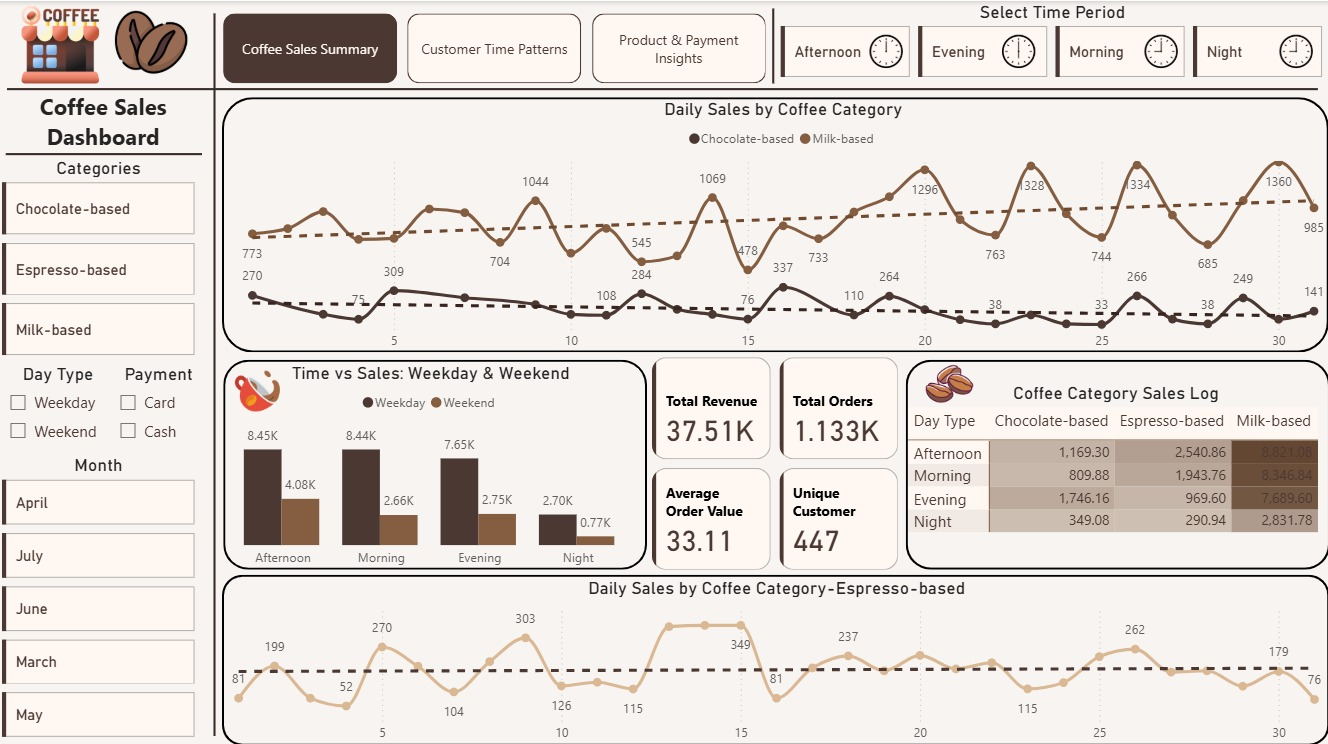

What the dashboard file says about the page in this screenshot:
{"tool":"powerbi","page":{"name":"Coffee Sales Summary","canvas":[1280,720],"ordinal":0},"visuals":[{"type":"lineChart","title":"Daily Sales by Coffee Category","fields":{"Category":["Cleaned_Dataset.date.Variation.Date Hierarchy.Day"],"Y":["Sum(Cleaned_Dataset.money)"],"Series":["Cleaned_Dataset.coffee_category"]},"box":[230.2,93.3,1049.7,251.1],"z":0},{"type":"clusteredColumnChart","title":"Time vs Sales: Weekday & Weekend","fields":{"Category":["Cleaned_Dataset.time_of_day"],"Y":["Sum(Cleaned_Dataset.money)"],"Series":["Cleaned_Dataset.is_weekend"]},"box":[194.9,347.2,444.6,205.8],"z":1000},{"type":"pivotTable","title":"Coffee Category Sales Log","fields":{"Rows":["Cleaned_Dataset.time_of_day"],"Values":["Sum(Cleaned_Dataset.money)"],"Columns":["Cleaned_Dataset.coffee_category"]},"box":[870.9,366.3,409.1,168.2],"z":2000},{"type":"advancedSlicerVisual","title":"Categories","fields":{"Values":["Cleaned_Dataset.coffee_category"]},"box":[0,149.7,195.3,198.1],"z":3000},{"type":"advancedSlicerVisual","title":"Month","fields":{"Values":["Cleaned_Dataset.Month Name"]},"box":[0,436.2,195.3,279.4],"z":4000},{"type":"shape","title":"Daily Sales by Coffee Category","box":[216.7,92.7,1063.3,245.2],"z":5000},{"type":"lineChart","title":"Daily Sales by Coffee Category-Espresso-based","fields":{"Category":["Cleaned_Dataset.date.Variation.Date Hierarchy.Day"],"Y":["Sum(Cleaned_Dataset.money)"],"Series":["Cleaned_Dataset.coffee_category"]},"box":[216.8,553,1063.5,167.4],"z":6000},{"type":"shape","box":[216.6,551.6,1063.8,164.3],"z":7000},{"type":"shape","box":[217.3,344.6,407.1,201.7],"z":8000},{"type":"shape","box":[195.7,12,26.4,694],"z":9000},{"type":"shape","box":[9.6,70.8,1259.6,27.6],"z":10000},{"type":"cardVisual","fields":{"Data":["Sum(Cleaned_Dataset.money)","CountNonNull(Cleaned_Dataset.coffee_name)","Cleaned_Dataset.Average Order Value","Count(Cleaned_Dataset.card)"]},"box":[624.3,337.8,246.6,215.2],"z":11000},{"type":"image","box":[106.9,0,82.9,79.2],"z":12000},{"type":"shape","box":[8.4,133.3,188.5,27.6],"z":13000},{"type":"textbox","box":[7.2,81.7,189.7,76.8],"z":14000},{"type":"slicer","title":"Day Type","fields":{"Values":["Cleaned_Dataset.is_weekend"]},"box":[0,348.2,117.7,87.7],"z":15000},{"type":"slicer","title":"Payment","fields":{"Values":["Cleaned_Dataset.payment_category"]},"box":[105.7,348.2,99.7,87.7],"z":16000},{"type":"pageNavigator","box":[217.3,12,521.1,67.2],"z":17000},{"type":"image","box":[221.9,347.8,55.5,53.3],"z":19000},{"type":"image","box":[18,0,85.3,84.1],"z":20000},{"type":"shape","box":[732.5,7.2,26.4,72],"z":21000},{"type":"shape","box":[872.8,344.6,407.6,201.7],"z":22000},{"type":"advancedSlicerVisual","title":"Select Time Period","fields":{"Values":["Cleaned_Dataset.time_of_day"]},"box":[748.3,0,531.7,79],"z":23000},{"type":"image","box":[887.7,338.2,55.5,58.7],"z":23001},{"type":"image","box":[960.6,22.8,42,50.4],"z":23002},{"type":"image","box":[1097.5,22.8,42,50.4],"z":23003},{"type":"image","box":[1227.2,22.8,42,50.4],"z":23004},{"type":"image","box":[833.3,22.8,42,50.4],"z":23005}]}

Visuals, with their boxes in screenshot pixels (x1, y1, x2, y2), scaled from the page's 1280x720 canvas onto the 1328x744 screenshot:
"Daily Sales by Coffee Category" lineChart: pyautogui.locateOnScreen(239, 96, 1327, 356)
"Time vs Sales: Weekday & Weekend" clusteredColumnChart: pyautogui.locateOnScreen(202, 359, 663, 571)
"Coffee Category Sales Log" pivotTable: pyautogui.locateOnScreen(904, 379, 1327, 552)
"Categories" advancedSlicerVisual: pyautogui.locateOnScreen(0, 155, 203, 359)
"Month" advancedSlicerVisual: pyautogui.locateOnScreen(0, 451, 203, 739)
"Daily Sales by Coffee Category" shape: pyautogui.locateOnScreen(225, 96, 1327, 349)
"Daily Sales by Coffee Category-Espresso-based" lineChart: pyautogui.locateOnScreen(225, 571, 1327, 743)
shape: pyautogui.locateOnScreen(225, 570, 1327, 740)
shape: pyautogui.locateOnScreen(225, 356, 648, 565)
shape: pyautogui.locateOnScreen(203, 12, 230, 730)
shape: pyautogui.locateOnScreen(10, 73, 1317, 102)
cardVisual - Sum(Cleaned_Dataset.money) x CountNonNull(Cleaned_Dataset.coffee_name): pyautogui.locateOnScreen(648, 349, 904, 571)
image: pyautogui.locateOnScreen(111, 0, 197, 82)
shape: pyautogui.locateOnScreen(9, 138, 204, 166)
textbox: pyautogui.locateOnScreen(7, 84, 204, 164)
"Day Type" slicer: pyautogui.locateOnScreen(0, 360, 122, 450)
"Payment" slicer: pyautogui.locateOnScreen(110, 360, 213, 450)
pageNavigator: pyautogui.locateOnScreen(225, 12, 766, 82)
image: pyautogui.locateOnScreen(230, 359, 288, 414)
image: pyautogui.locateOnScreen(19, 0, 107, 87)
shape: pyautogui.locateOnScreen(760, 7, 787, 82)
shape: pyautogui.locateOnScreen(906, 356, 1327, 565)
"Select Time Period" advancedSlicerVisual: pyautogui.locateOnScreen(776, 0, 1327, 82)
image: pyautogui.locateOnScreen(921, 349, 979, 410)
image: pyautogui.locateOnScreen(997, 24, 1040, 76)
image: pyautogui.locateOnScreen(1139, 24, 1182, 76)
image: pyautogui.locateOnScreen(1273, 24, 1317, 76)
image: pyautogui.locateOnScreen(865, 24, 908, 76)
